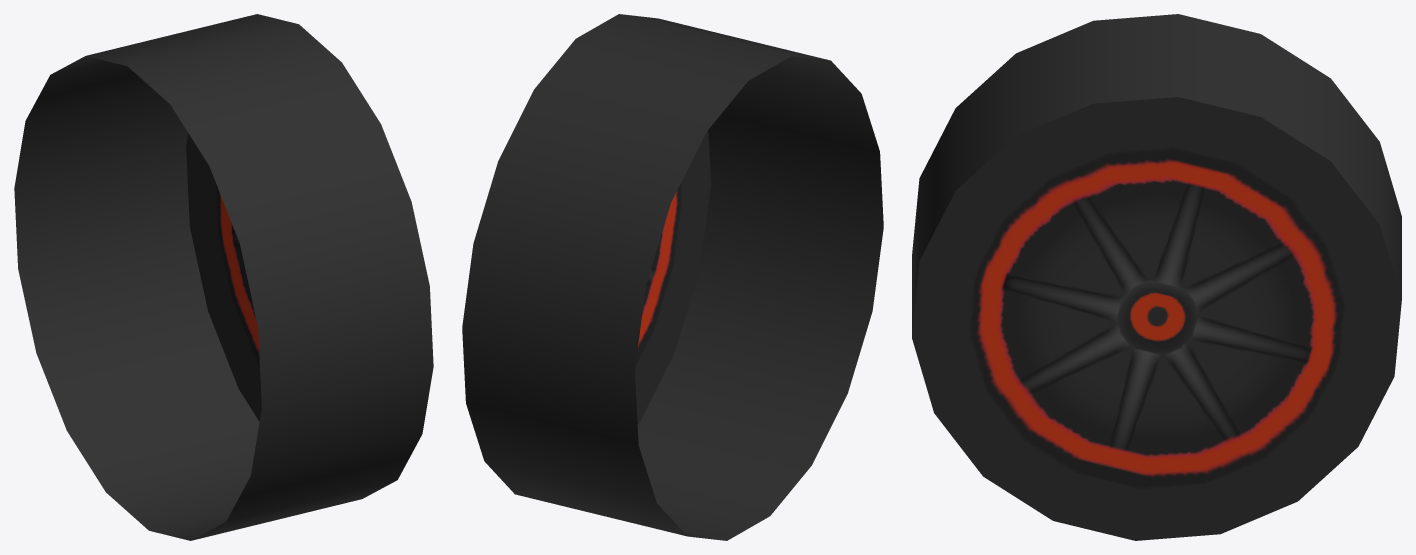
The model's file is wheel 3.FBX.
The picture shows the model from 3 angles, left to right: view 1: azimuth 30°, elevation 25°; view 2: azimuth 150°, elevation 25°; view 3: azimuth 270°, elevation 25°; orthographic projection.
Parts seen in each view (by area): view 1: Cylinder004; view 2: Cylinder004; view 3: Cylinder004.
Boxes of the visible parts, <box> form: Cylinder004: <box>14,14,433,540</box>; Cylinder004: <box>462,14,883,540</box>; Cylinder004: <box>912,14,1401,540</box>.
Bounding box in the file's own units: 215 × 537 × 537.
Materials: 1 (1 with a texture image).
